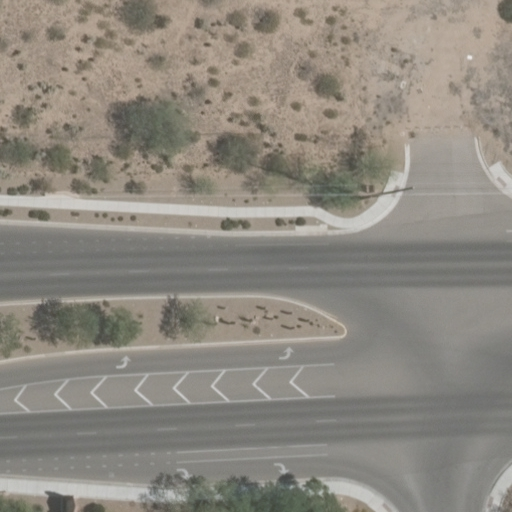DT: (346, 178, 416, 212)
